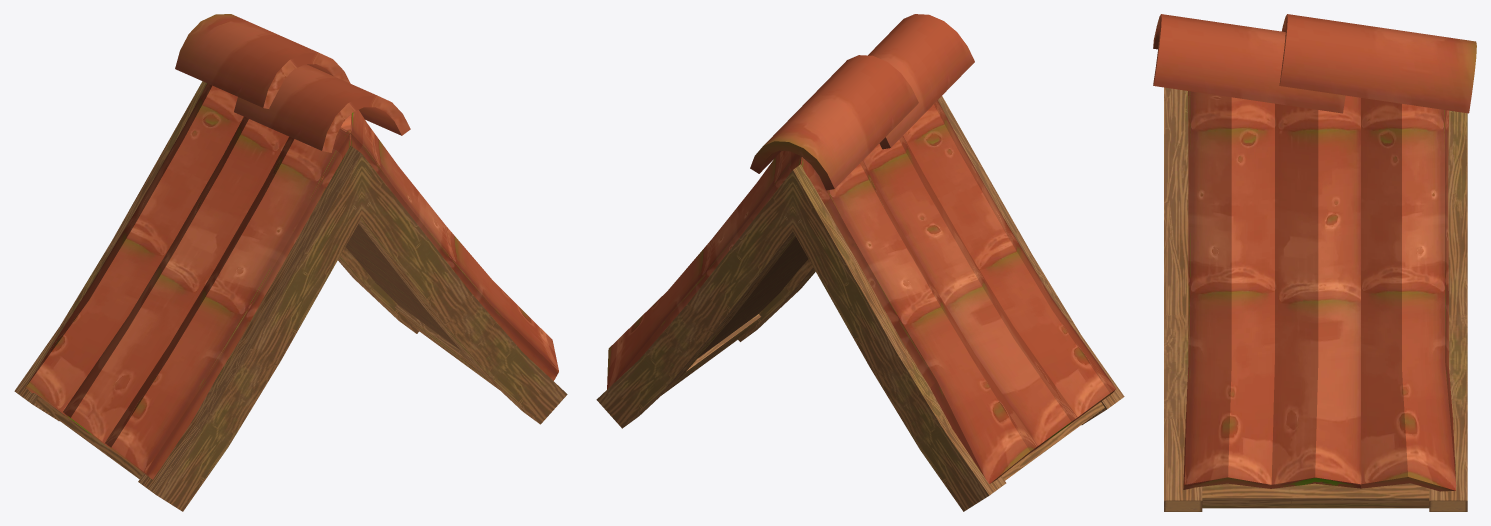
The model's file is Roof_RoundTile_2x1.glb.
The picture shows the model from 3 angles, left to right: view 1: azimuth 30°, elevation 25°; view 2: azimuth 150°, elevation 25°; view 3: azimuth 270°, elevation 25°; orthographic projection. The views are drawn at different scales.
Parts seen in each view (by area): view 1: Roof_RoundTile_2x1; view 2: Roof_RoundTile_2x1; view 3: Roof_RoundTile_2x1.
Boxes of the visible parts, x1,y1,x2,y2 form: Roof_RoundTile_2x1: (14,14,567,511); Roof_RoundTile_2x1: (596,14,1124,511); Roof_RoundTile_2x1: (1153,14,1476,511).
Size of the model in its own units: 3.3 by 2.66 by 1.95.
2 materials, 2 textured.
